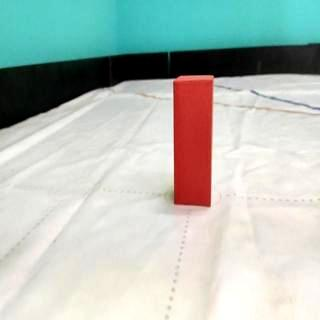redbox: (172, 74, 212, 208)
